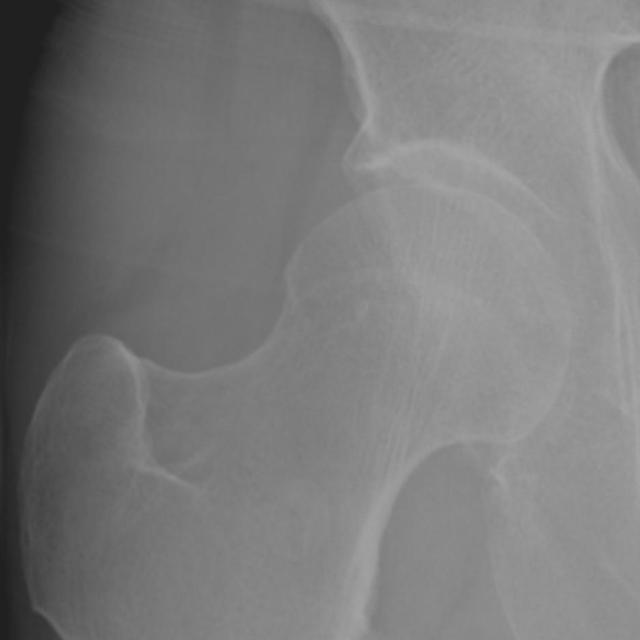Fitted_femural_head: (285, 174, 432, 285)
